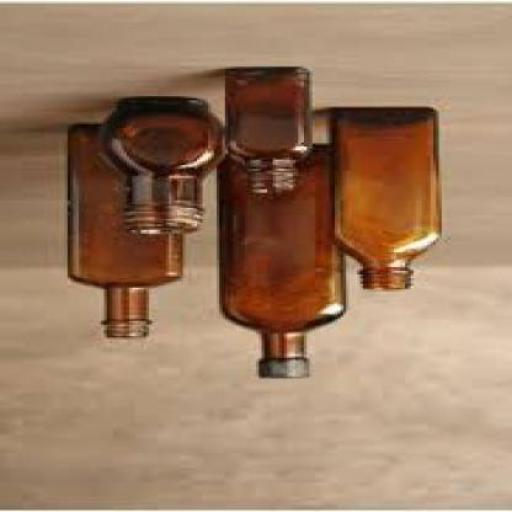glass: (214, 150, 340, 362), (64, 126, 178, 340), (326, 108, 436, 291), (96, 98, 219, 236), (219, 69, 307, 197)
plastic: (253, 363, 309, 380)
